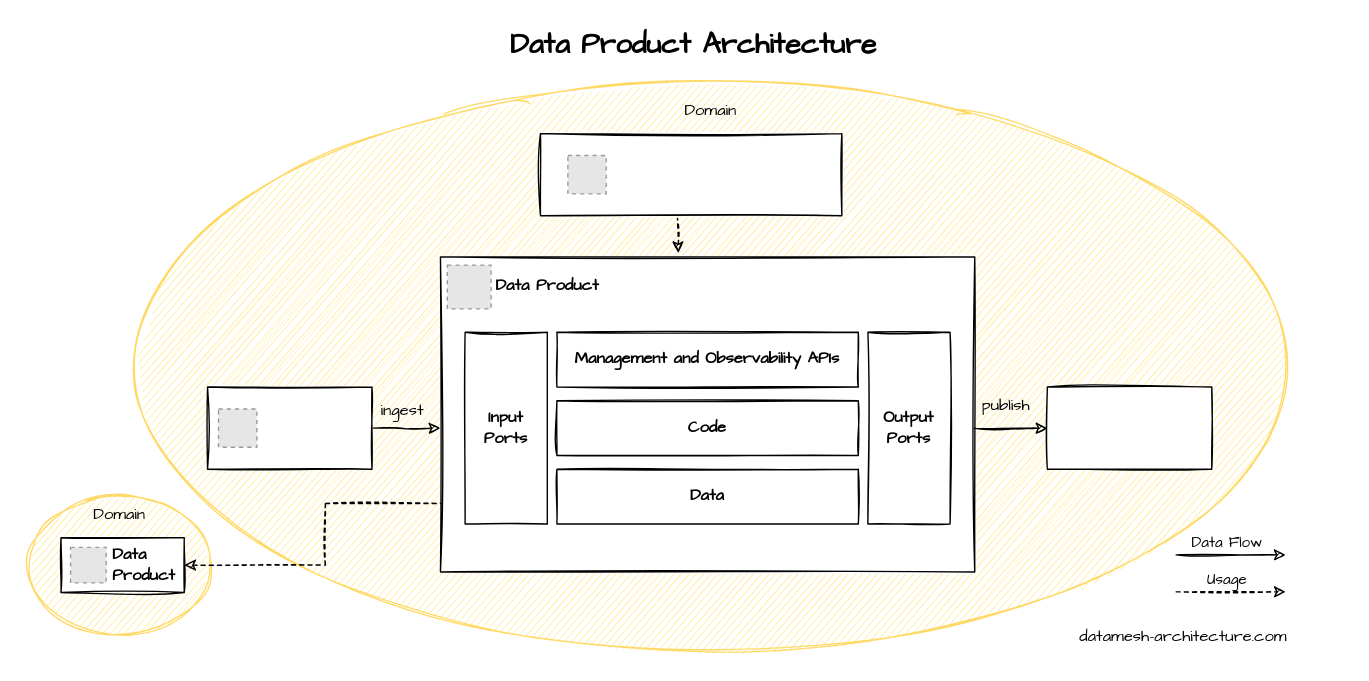
The diagram is 1369 pixels wide and 681 high, and some of its shapes have lost their labels. Grey dashed boxes stand in for pictures. Each missing label, with the box of its shape:
Analytics: (539, 132, 842, 216)
Data Contract: (1046, 386, 1212, 469)
Operational Data: (206, 386, 372, 469)
